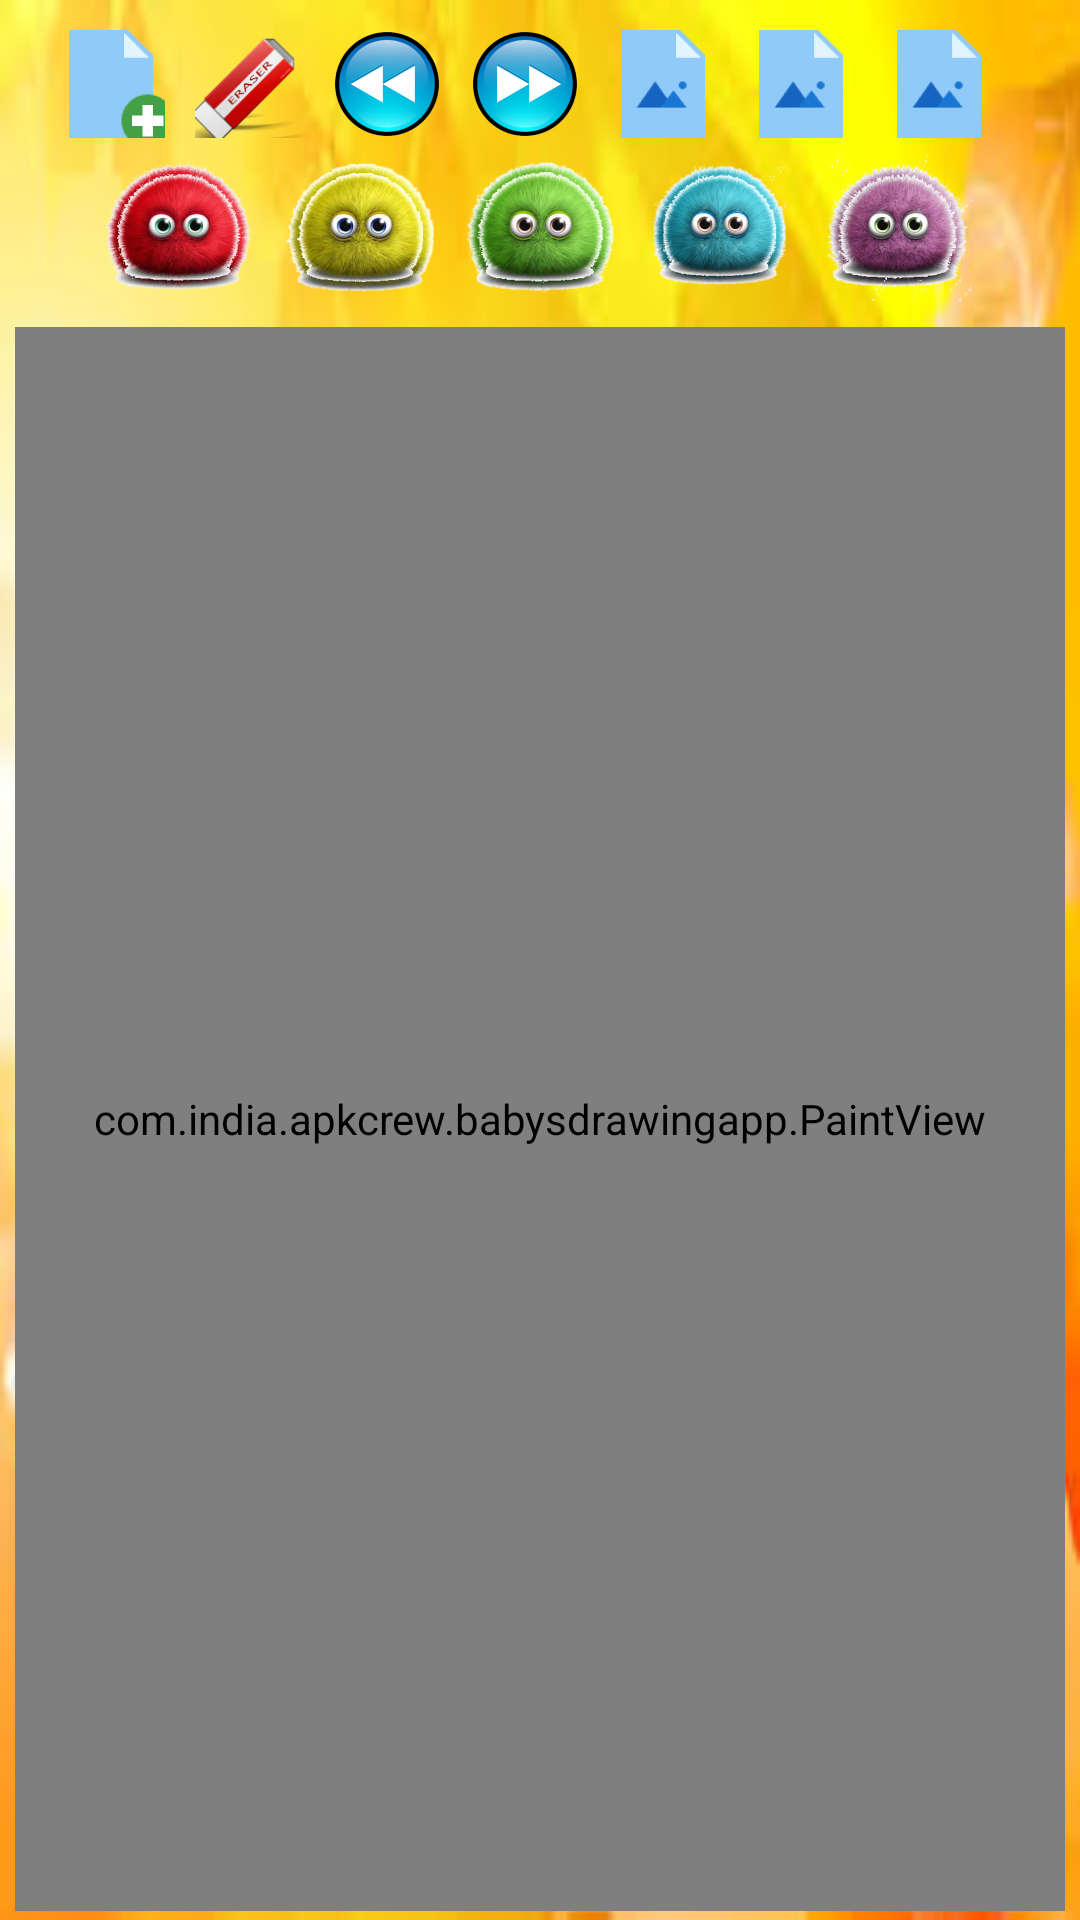

Point at icon controls on the screen. Image size 1080*1920, points as point (x, y).
Erase: point (249, 84)
Load: point (669, 84), point (795, 84), point (939, 84)
New: point (117, 84)
Redo: point (525, 84)
Undo: point (387, 84)
